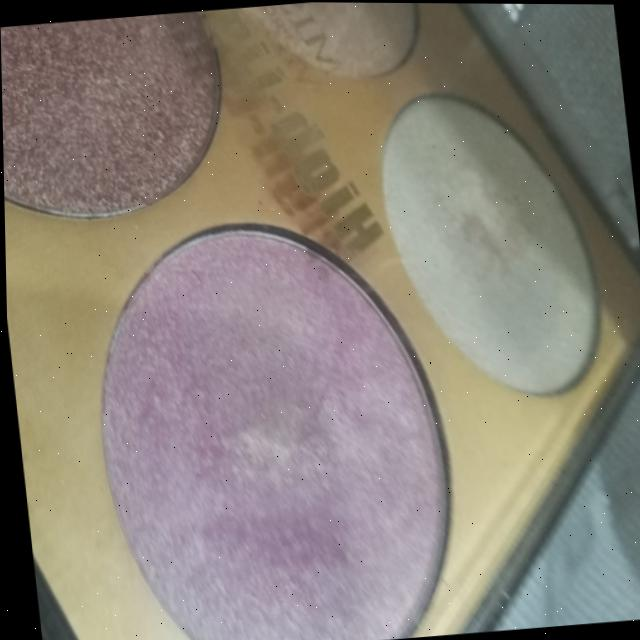highlighter: (60, 203, 462, 640), (360, 63, 635, 425), (0, 6, 253, 249), (211, 1, 446, 117)
